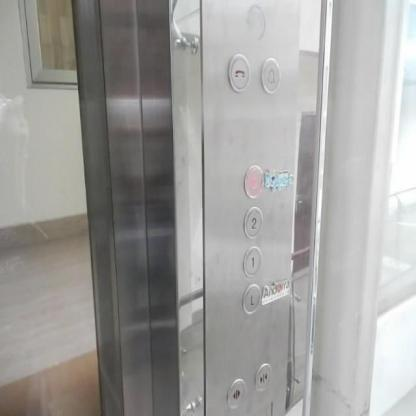1: (241, 244, 263, 278)
2: (242, 205, 264, 239)
L: (240, 282, 262, 315)
alarm: (258, 55, 282, 96)
blur: (244, 2, 266, 40), (242, 163, 264, 200)
call: (226, 50, 252, 96)
close: (253, 360, 272, 392)
open: (224, 376, 246, 409)
